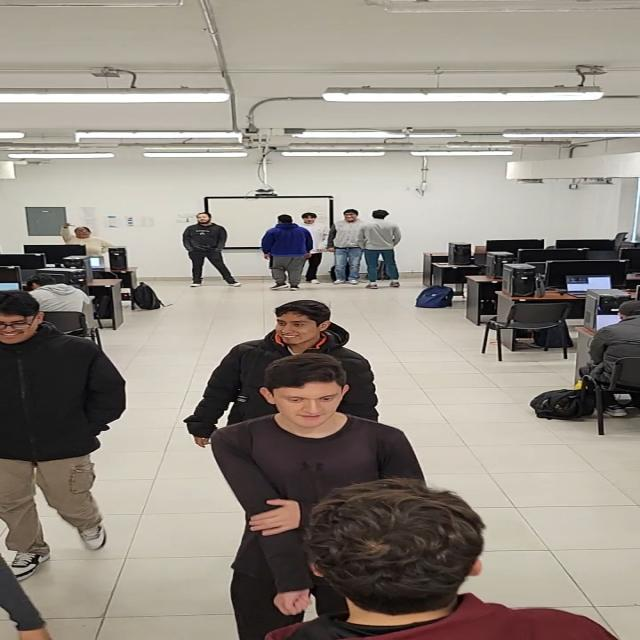Persona: (258, 487, 559, 632), (10, 288, 119, 554), (230, 357, 426, 486), (201, 299, 399, 363), (184, 212, 234, 291), (362, 208, 403, 280), (263, 209, 304, 276), (48, 217, 112, 255), (333, 207, 360, 282), (300, 212, 330, 278)
